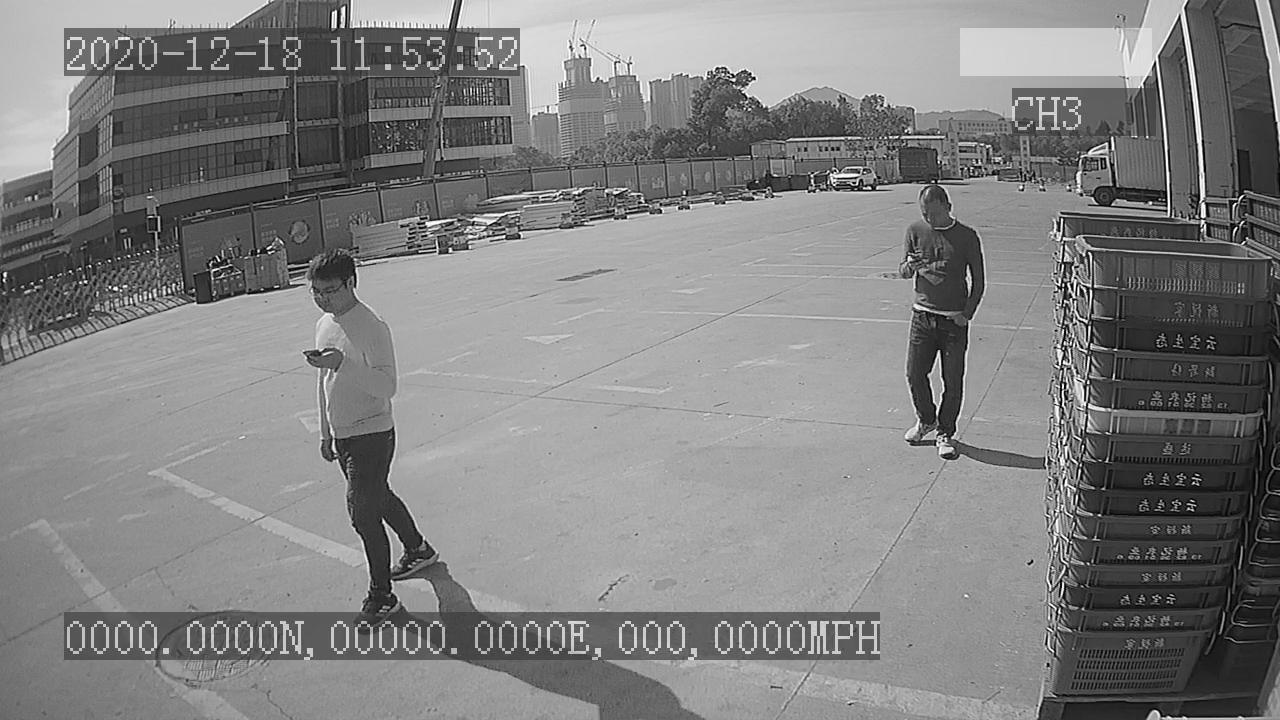person: (893, 179, 988, 463)
